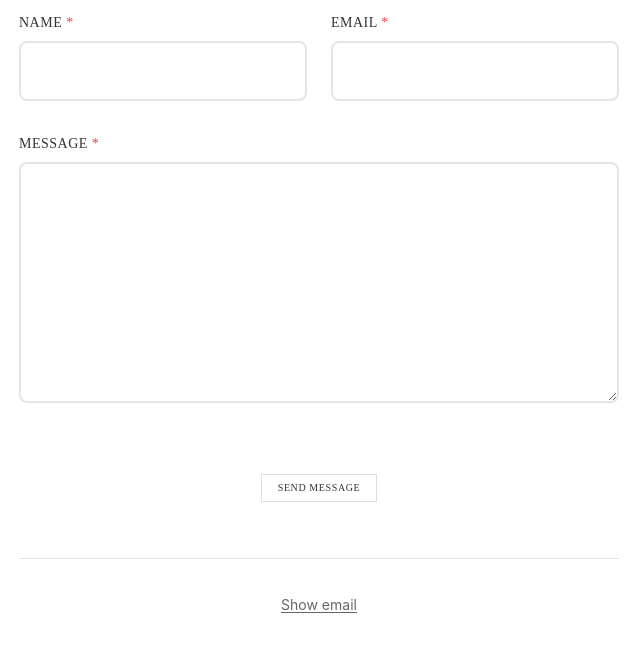
Scenario: DesktopContactForm › Form Validation › should_show_error_for_message_too_short
Step 1. Type "Short" into the text box labelled "Message *" → (319, 282), box [19,162,619,403]
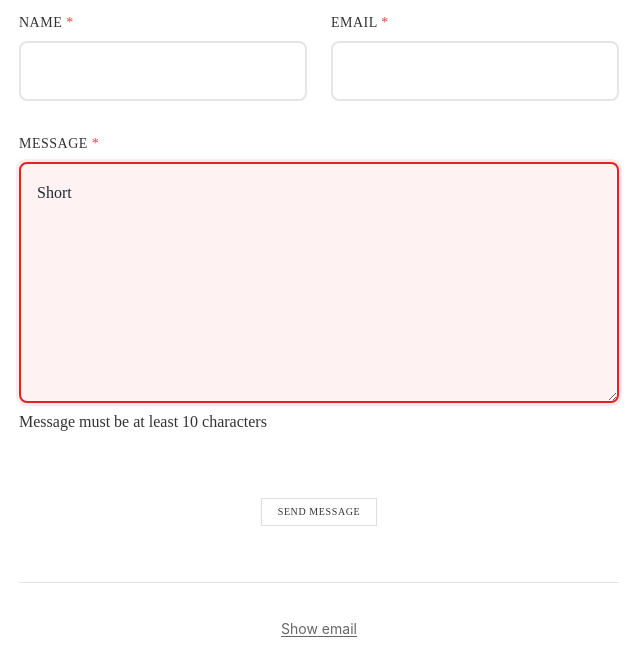
Result: the text "Message must be at least 10 characters" is shown at [19,413,267,430]
